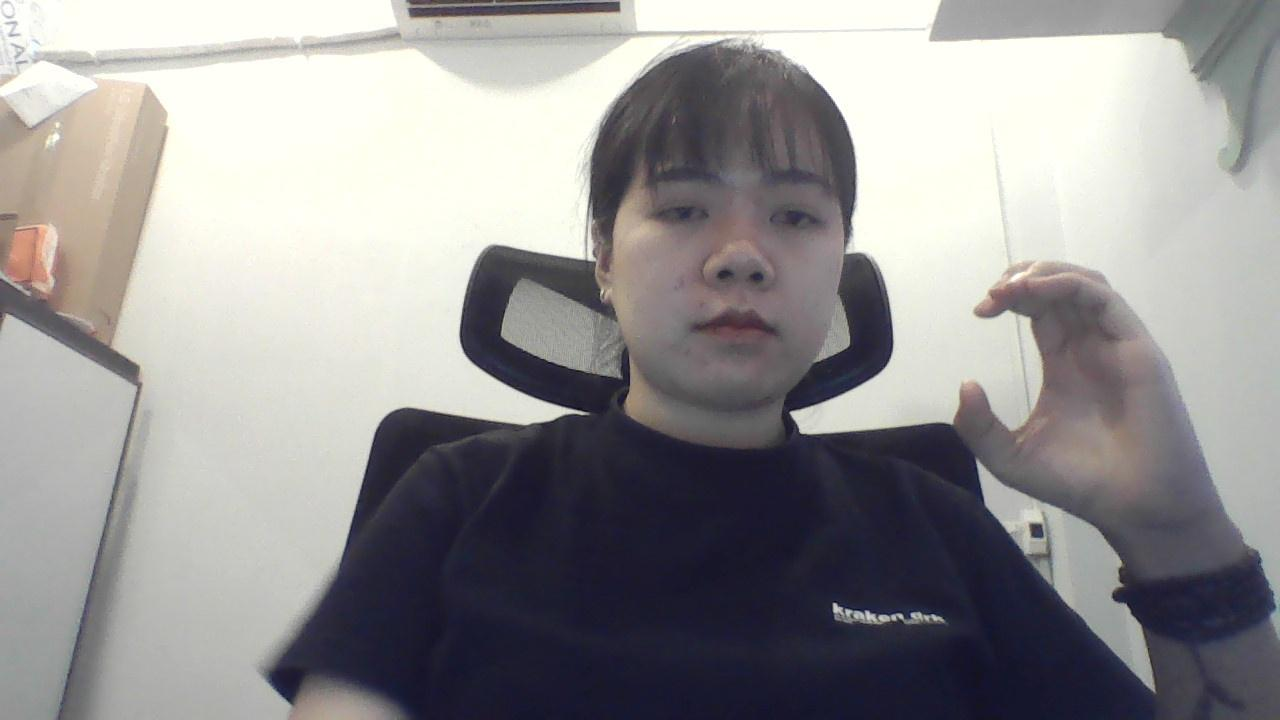C: (930, 239, 1245, 565)
